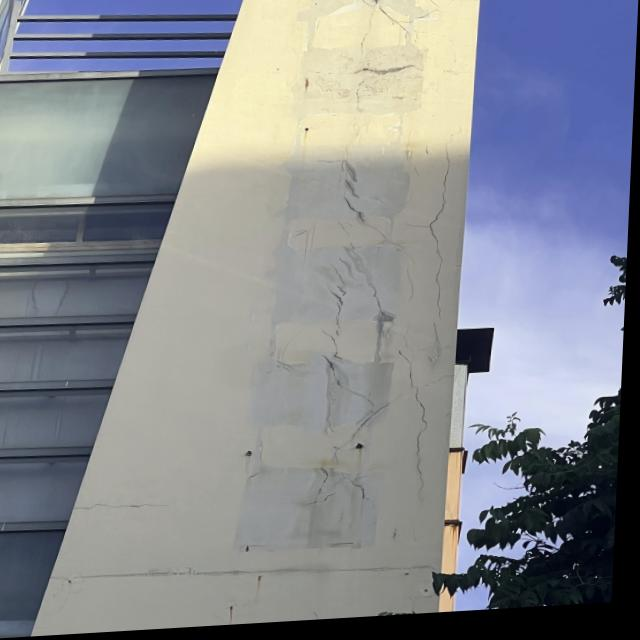crack: (412, 152, 453, 493), (329, 157, 369, 343), (72, 495, 176, 517)
spalling: (248, 343, 405, 445)
